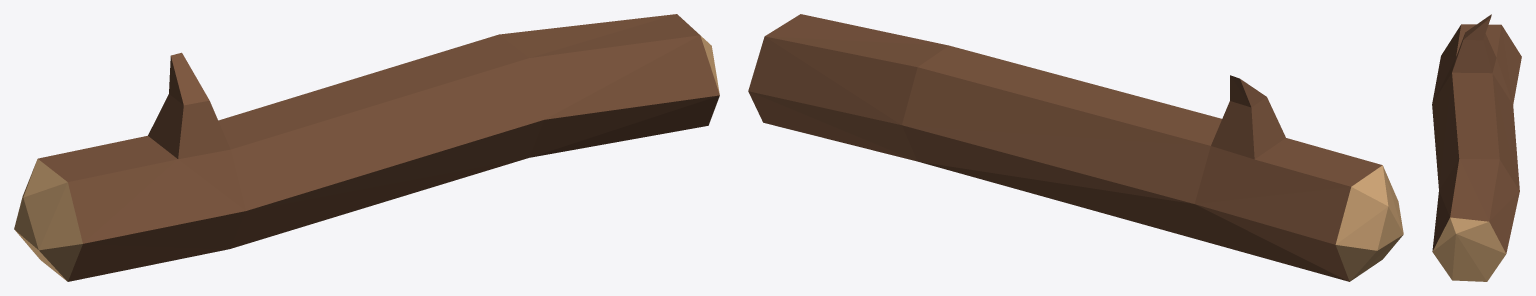
File: trunk1.gltf
3 renders of one model, left to right at view 1: azimuth 30°, elevation 25°; view 2: azimuth 150°, elevation 25°; view 3: azimuth 270°, elevation 25°, orthographic. The views are drawn at different scales.
Visible parts, largest first — view 1: Branch_Branch1_1_0, Branch_Branch1_2_0; view 2: Branch_Branch1_1_0, Branch_Branch1_2_0; view 3: Branch_Branch1_1_0, Branch_Branch1_2_0.
Part boxes in pixels (box(x1,y1,x2,y2)): Branch_Branch1_1_0: box(38, 14, 719, 281); Branch_Branch1_2_0: box(14, 35, 719, 281); Branch_Branch1_1_0: box(748, 14, 1382, 281); Branch_Branch1_2_0: box(1335, 165, 1403, 281); Branch_Branch1_1_0: box(1432, 14, 1521, 253); Branch_Branch1_2_0: box(1432, 217, 1505, 281).
Bounding box in the file's own units: 2.51 × 0.649 × 0.4603.
